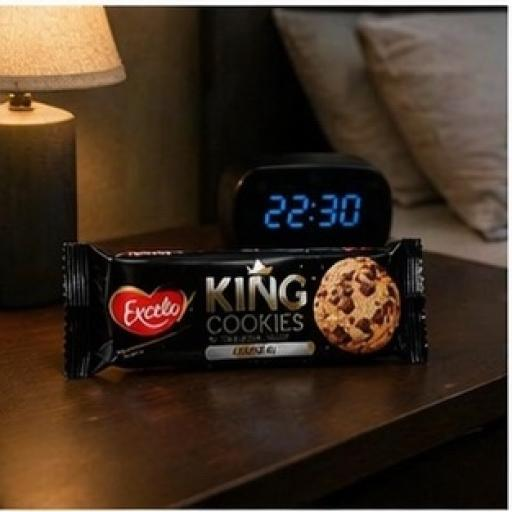king-cooking: (39, 161, 450, 392)
